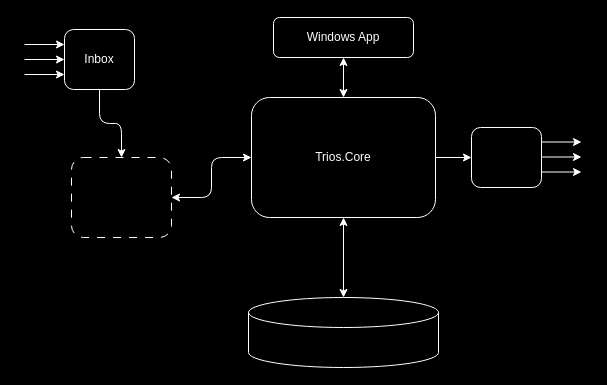
Image size: 607x385. Some labels were removed from this diagram. Here are the shapes that lost their labels. From the top down, the box of each, then its label:
(470, 126, 542, 188): Out box
(70, 156, 172, 238): Data Pipeline
